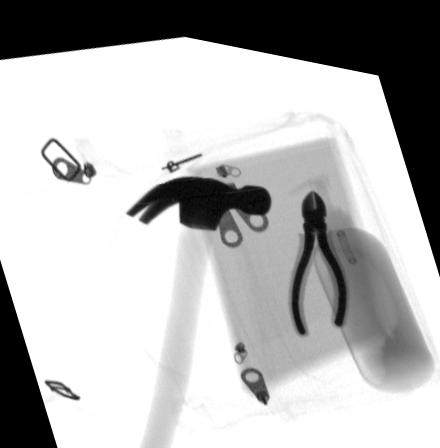Hammer: (126, 166, 274, 448)
Pliers: (288, 175, 352, 324)
